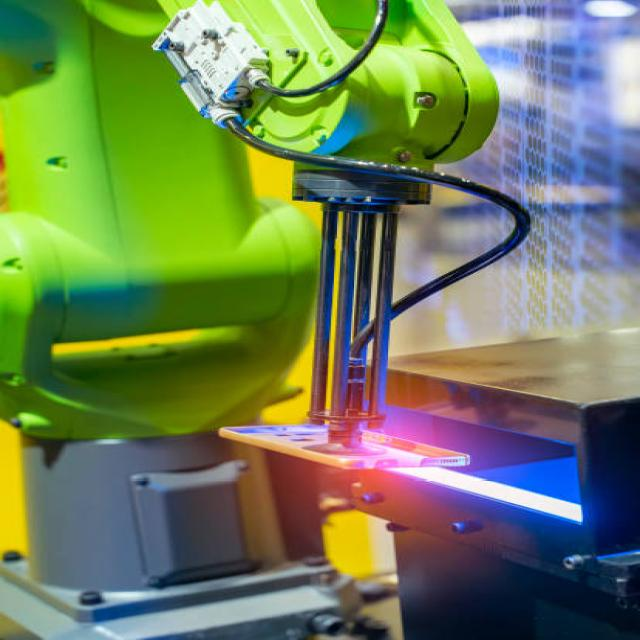Robotic-arm: (0, 0, 509, 438)
